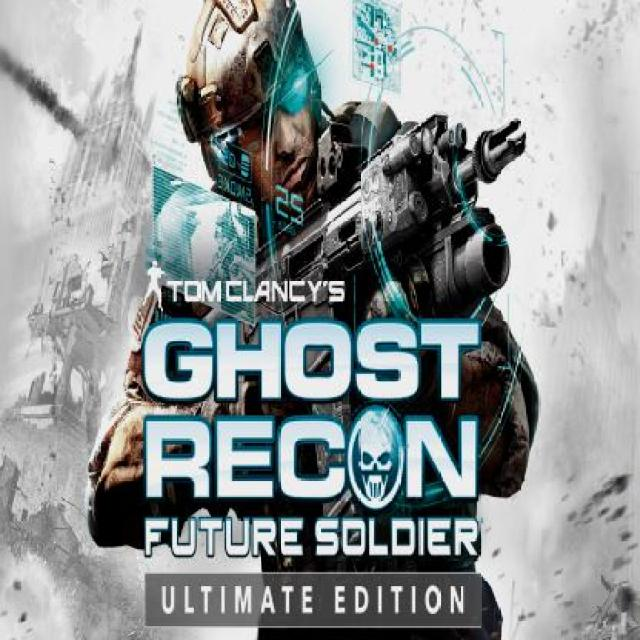MIL_Pax: (87, 1, 536, 634)
